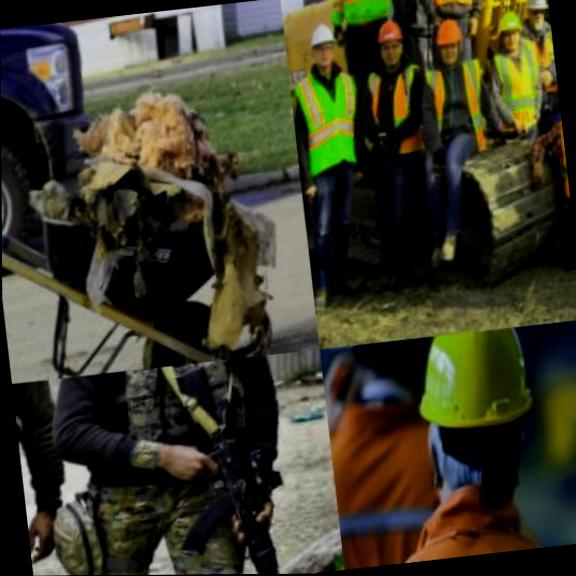safety_vest: (95, 356, 272, 521), (334, 462, 576, 570), (323, 380, 449, 570), (295, 66, 375, 172), (365, 58, 440, 161), (423, 59, 500, 158), (493, 42, 554, 137), (526, 21, 557, 82), (342, 0, 404, 30), (0, 29, 9, 196), (428, 0, 491, 17)
